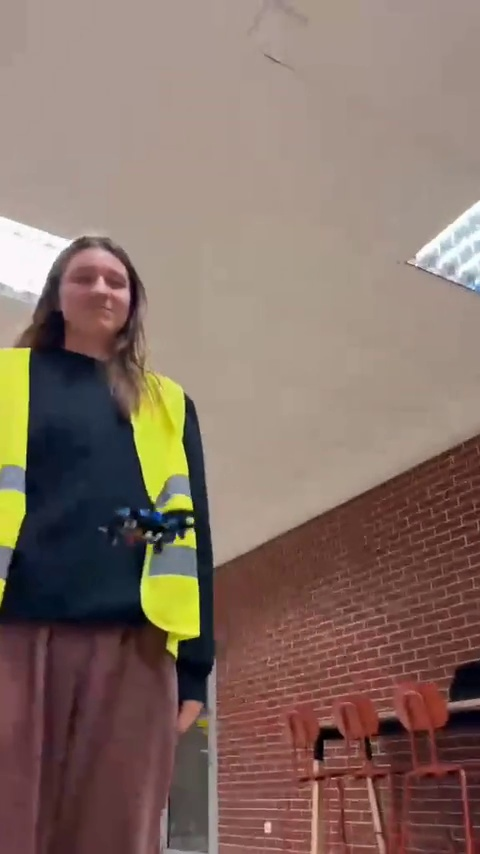drone: (93, 505, 215, 557)
vest: (5, 234, 219, 847)
